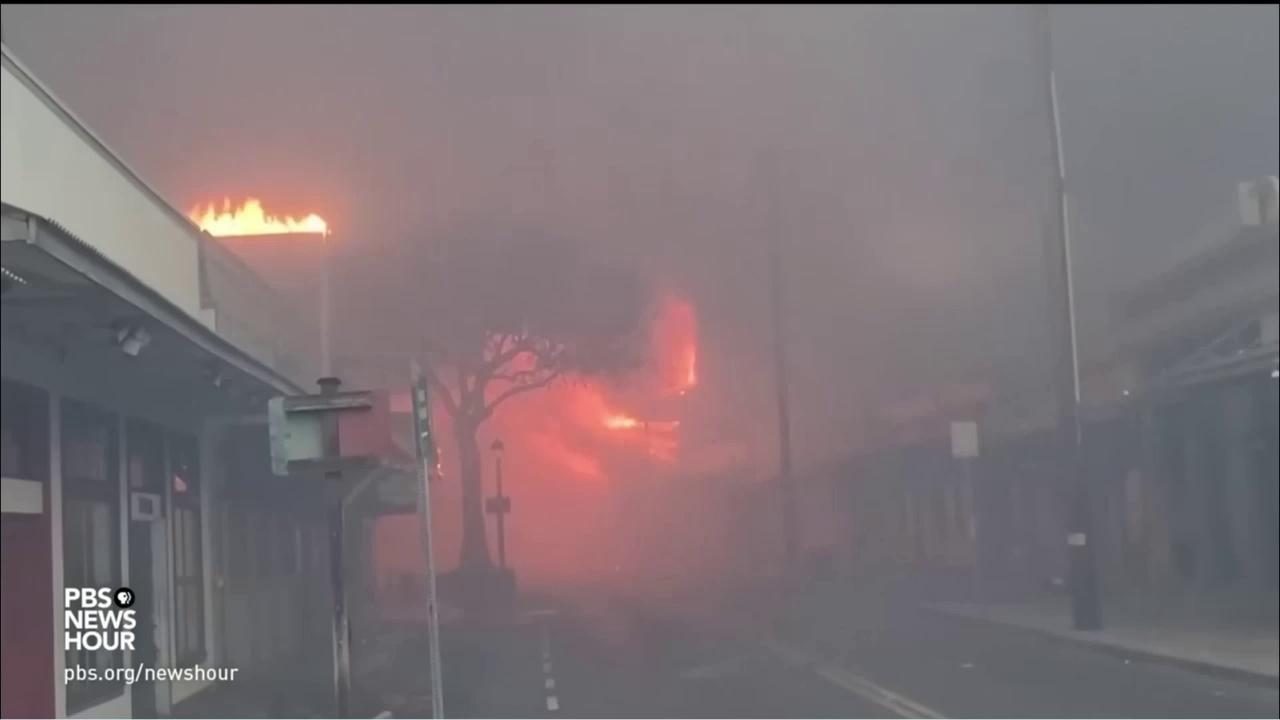fire: (480, 335, 682, 487), (178, 192, 333, 237), (654, 296, 698, 396)
smoke: (1, 4, 1280, 720)
